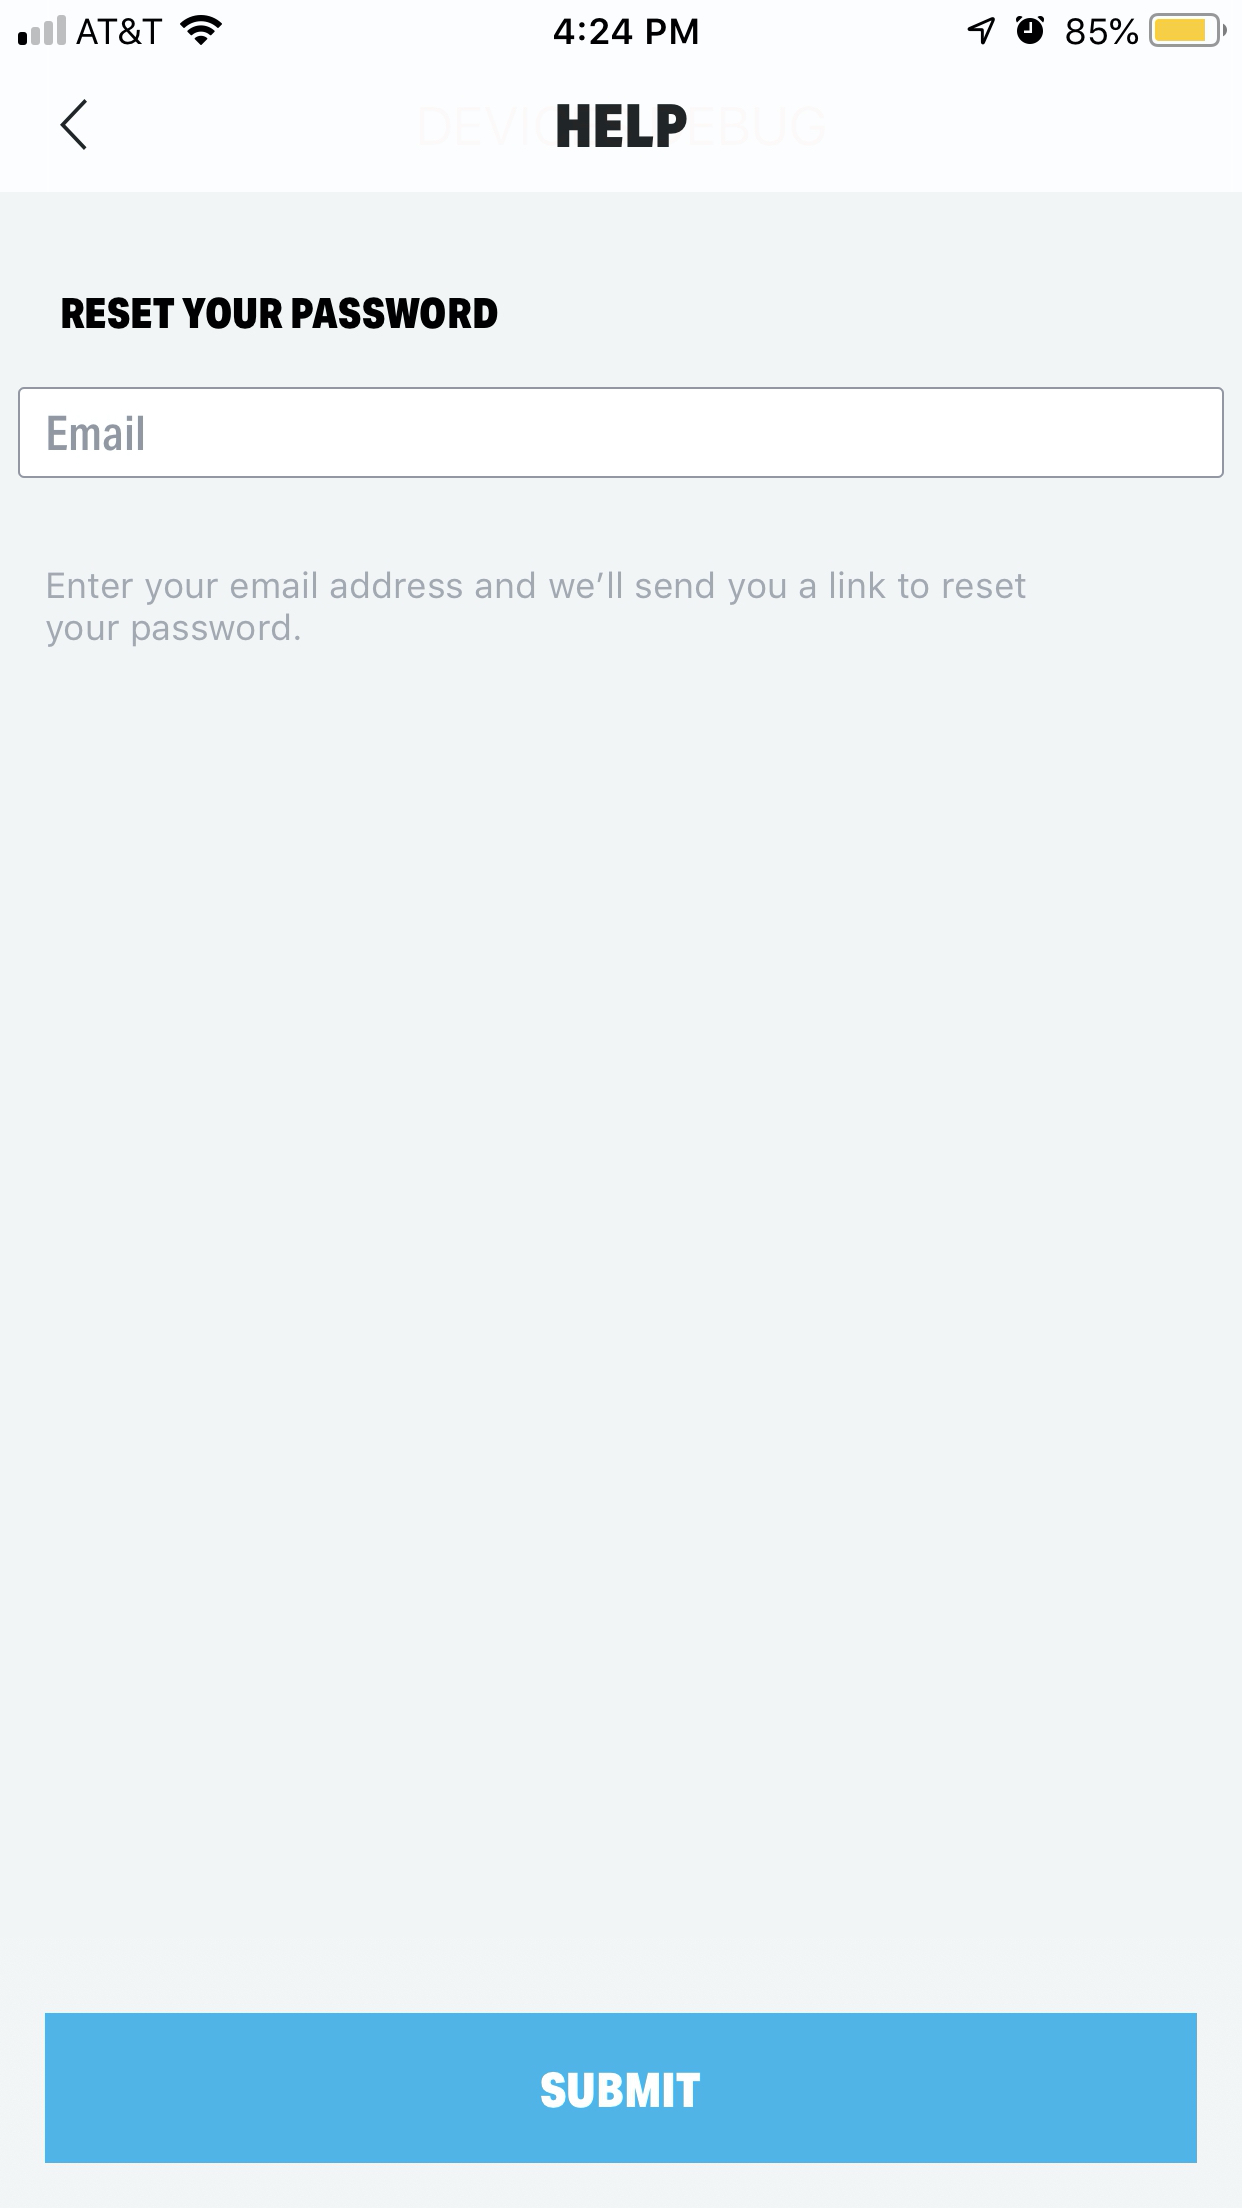EditText: (20, 388, 1224, 479)
Icon: (61, 99, 89, 152)
Text: (45, 572, 1027, 648), (64, 299, 497, 329), (557, 105, 688, 149), (49, 416, 144, 452)
TextButton: (45, 2012, 1198, 2163)
UpperTaskBar: (2, 2, 1242, 49)
